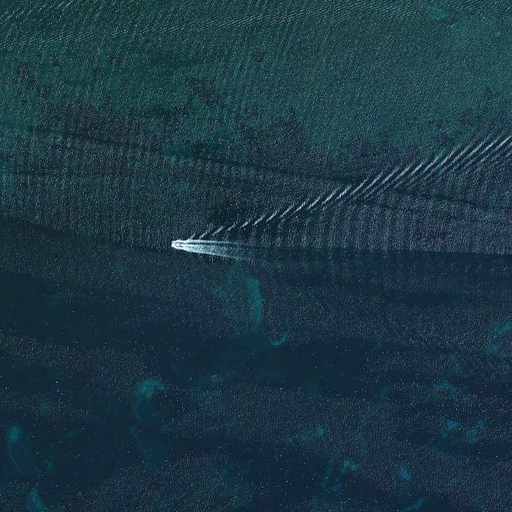ship: (168, 238, 187, 252)
